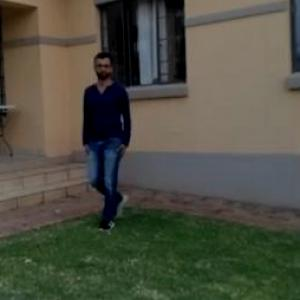follow: (90, 60, 144, 222)
